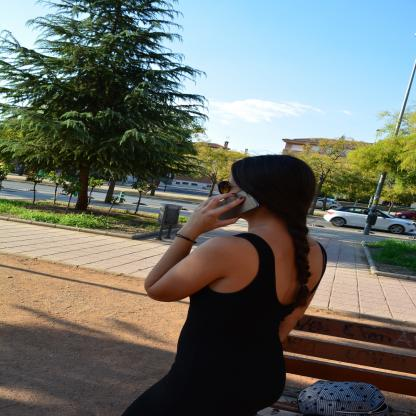smartphone: (214, 190, 260, 221)
